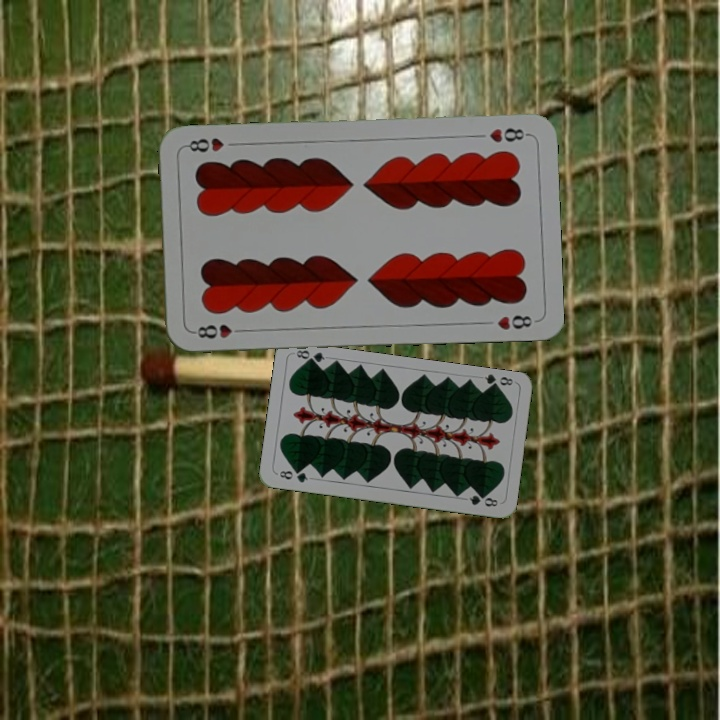G8: (481, 371, 515, 392), (275, 466, 310, 485)
H8: (189, 320, 248, 341), (485, 124, 531, 145)
